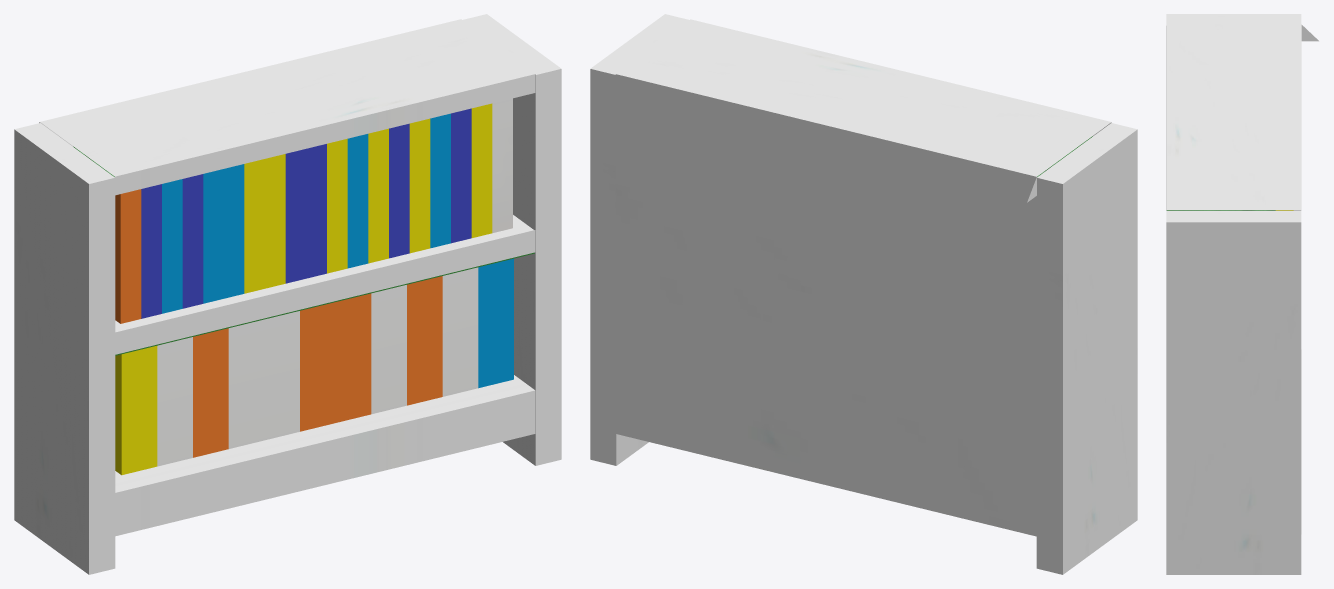
File: LibreriaB.obj
The picture shows the model from 3 angles, left to right: view 1: azimuth 30°, elevation 25°; view 2: azimuth 150°, elevation 25°; view 3: azimuth 270°, elevation 25°; orthographic projection. The views are drawn at different scales.
Parts seen in each view (by area): view 1: Libreria6:pasted__pasted__pCube1pasted__group3group4; view 2: Libreria6:pasted__pasted__pCube1pasted__group3group4; view 3: Libreria6:pasted__pasted__pCube1pasted__group3group4.
Part boxes in pixels (x1,y1,x2,y2): Libreria6:pasted__pasted__pCube1pasted__group3group4: (14, 14, 561, 574); Libreria6:pasted__pasted__pCube1pasted__group3group4: (590, 14, 1137, 574); Libreria6:pasted__pasted__pCube1pasted__group3group4: (1166, 14, 1318, 574).
Size of the model in its own units: 3.52 by 2.79 by 1.09.
